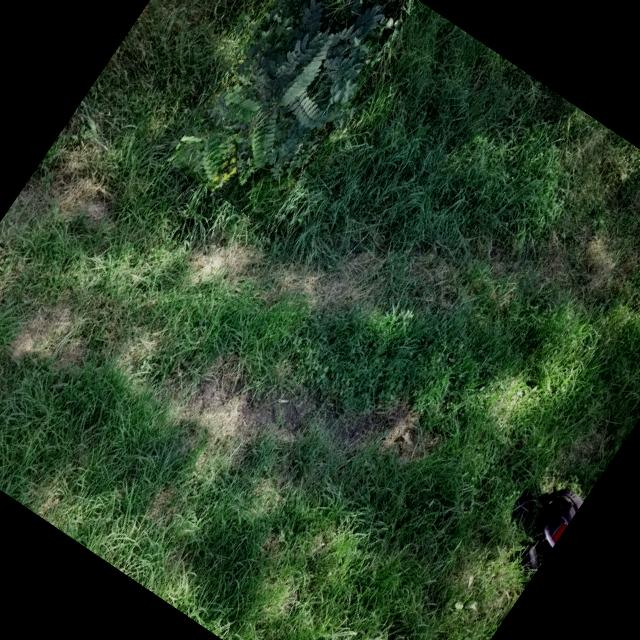Mysore-Thorn-Weed: (167, 0, 418, 228)
